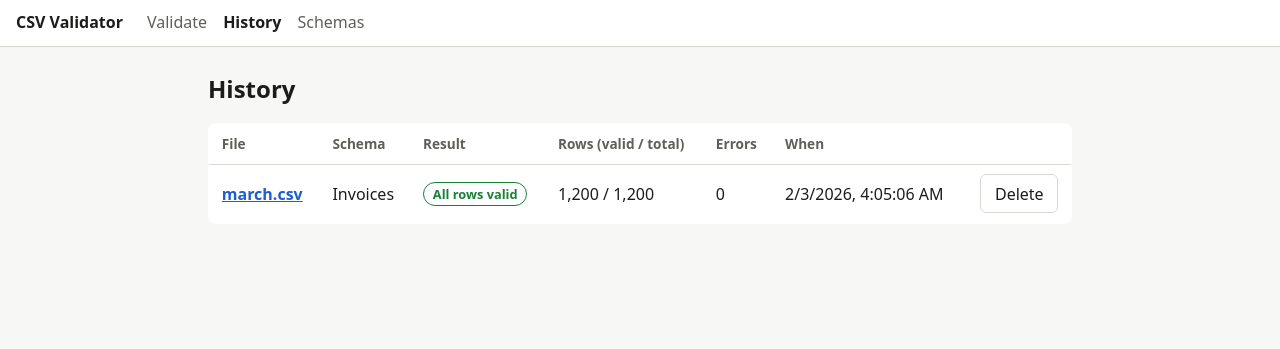
History: deleting a run (FR-27) › shows an error when deletion fails
Click the button with aria-label "Delete run of march.csv": coordinates (1019, 194) [980,174,1058,213]
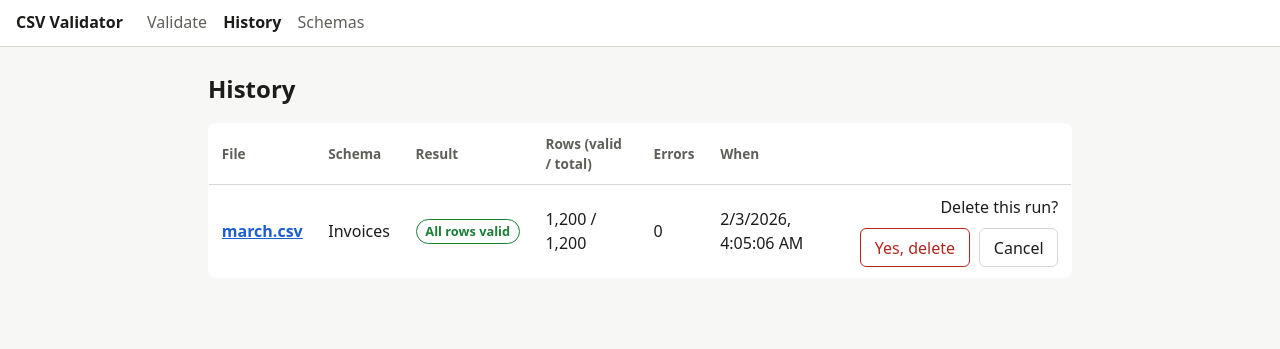
Click the button "Yes, delete": coordinates (915, 248) [860,228,970,267]
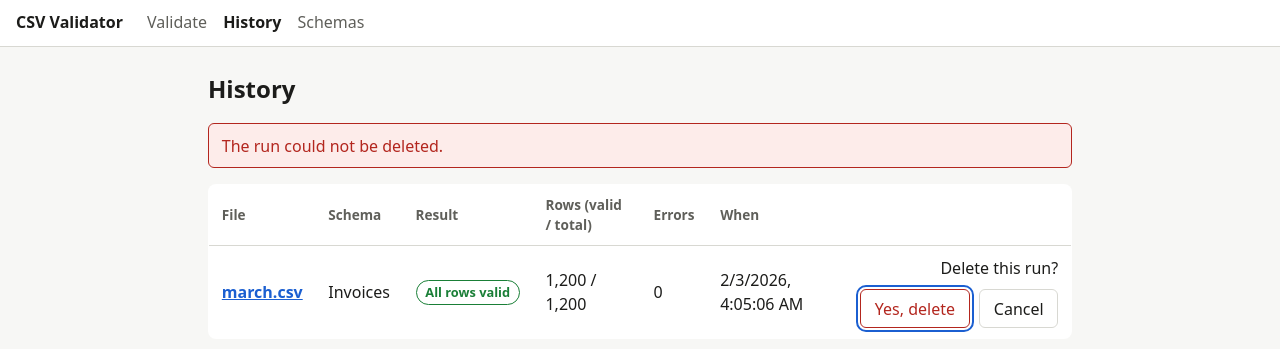
Expected: the link "march.csv" is shown, [222,281,303,303]
Expected: the text "The run could not be deleted." is shown, [208,123,1072,168]
